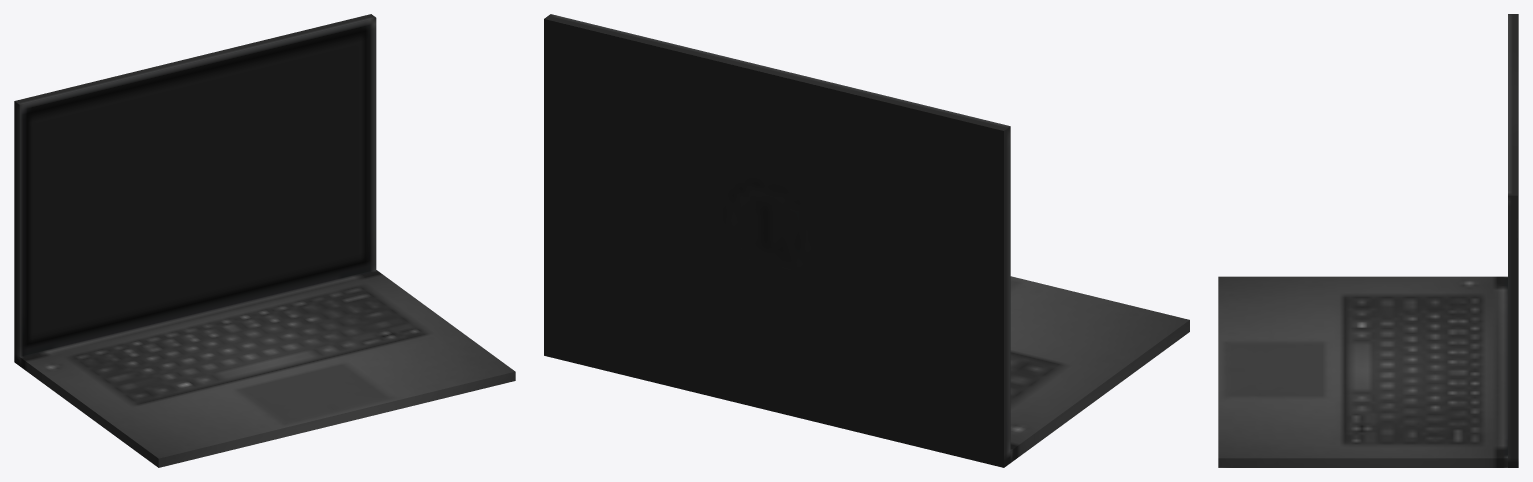
File: Laptop.fbx
3 renders of one model, left to right at view 1: azimuth 30°, elevation 25°; view 2: azimuth 150°, elevation 25°; view 3: azimuth 270°, elevation 25°, orthographic. The views are drawn at different scales.
Visible parts, largest first — view 1: polySurface451; view 2: polySurface451; view 3: polySurface451.
Boxes of the visible parts, x1,y1,x2,y2 form: polySurface451: (14, 14, 515, 467); polySurface451: (544, 14, 1189, 467); polySurface451: (1218, 14, 1518, 467).
Bounding box in the file's own units: 0.4 × 0.28 × 0.28.
